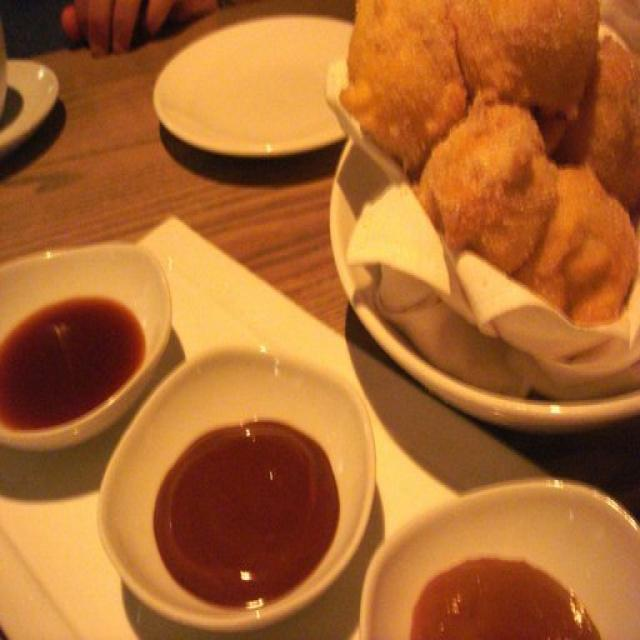Donuts: (339, 3, 640, 405)
